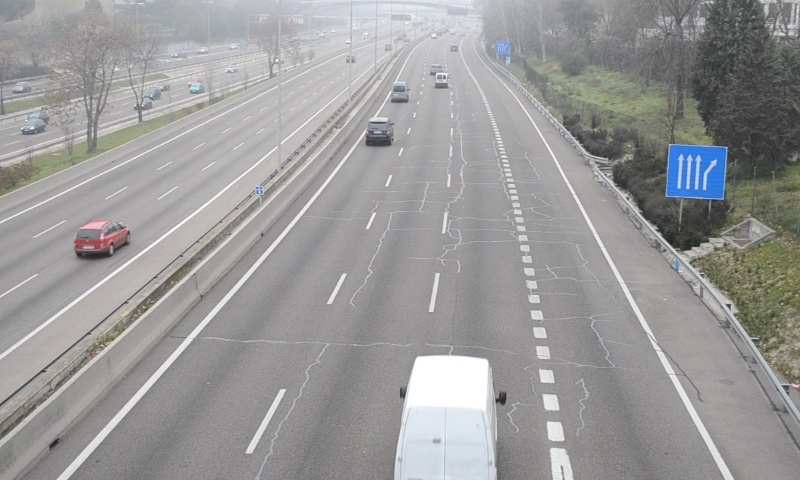car: (365, 117, 392, 144)
van: (393, 354, 498, 480), (391, 80, 408, 102)
